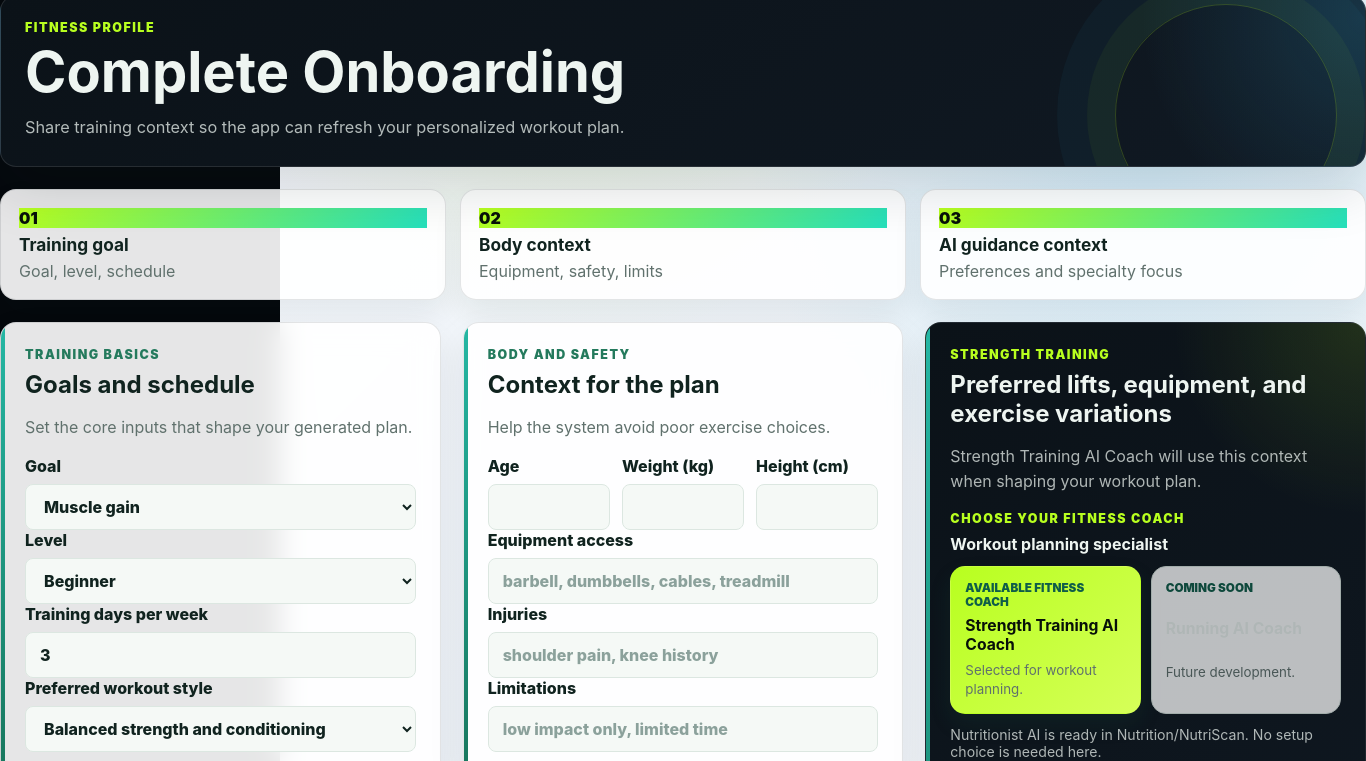
it: rejects obvious junk text in profile context fields
Check: the button "Available Fitness Coach Strength Training AI Coach Selected for workout planning" is shown, box [950, 566, 1141, 714]
Type "30" into the number field labelled "Age".
click(549, 507); type("30")  # box [488, 484, 610, 530]
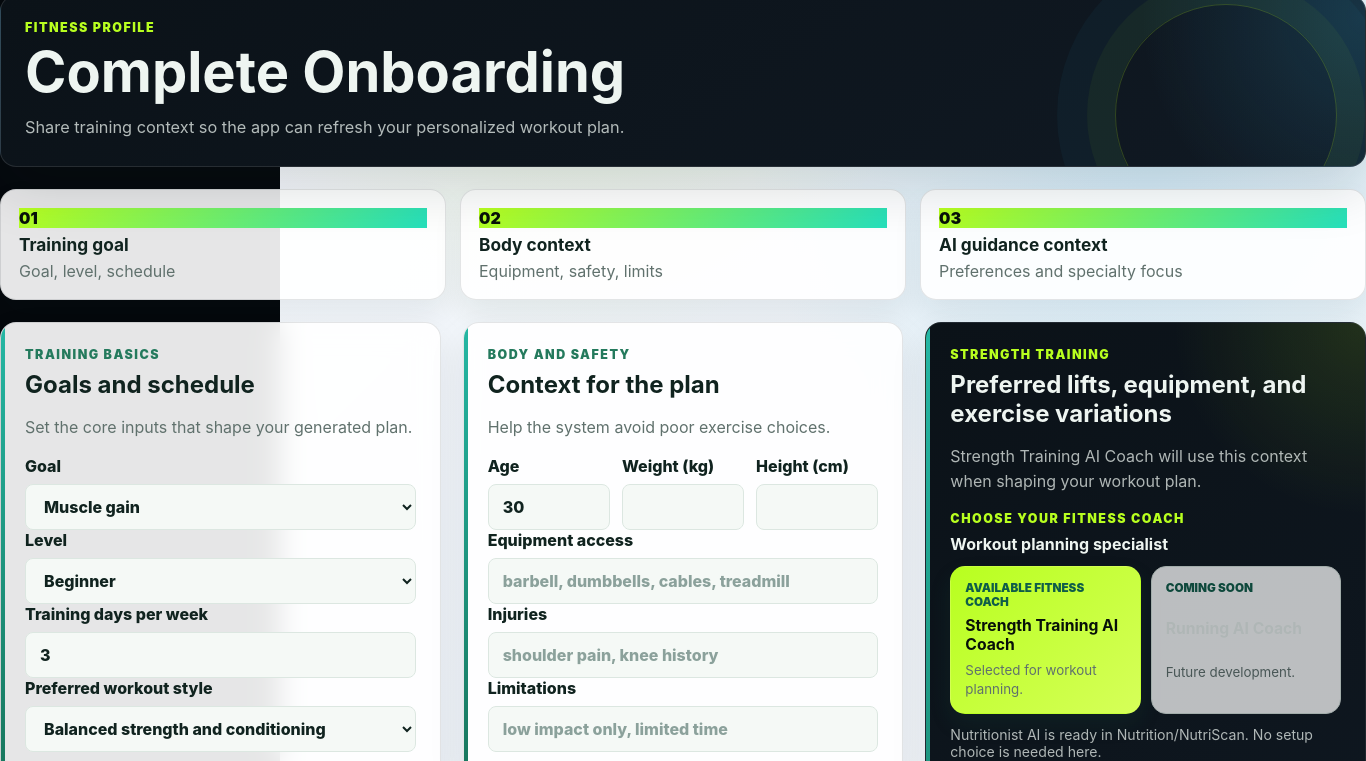
Type "82" into the number field labelled "Weight (kg)".
click(683, 507); type("82")  # box [622, 484, 744, 530]
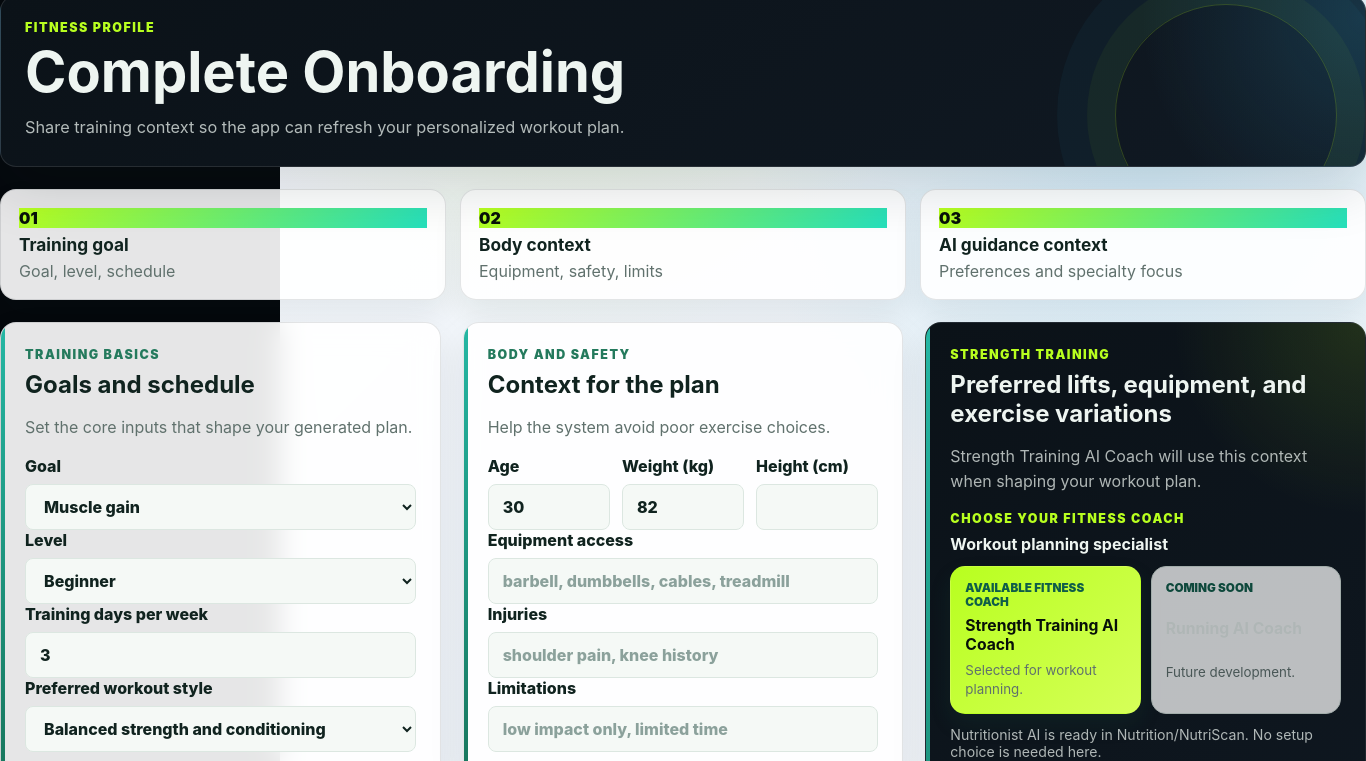
Type "180" into the number field labelled "Height (cm)".
click(817, 507); type("180")  # box [756, 484, 878, 530]
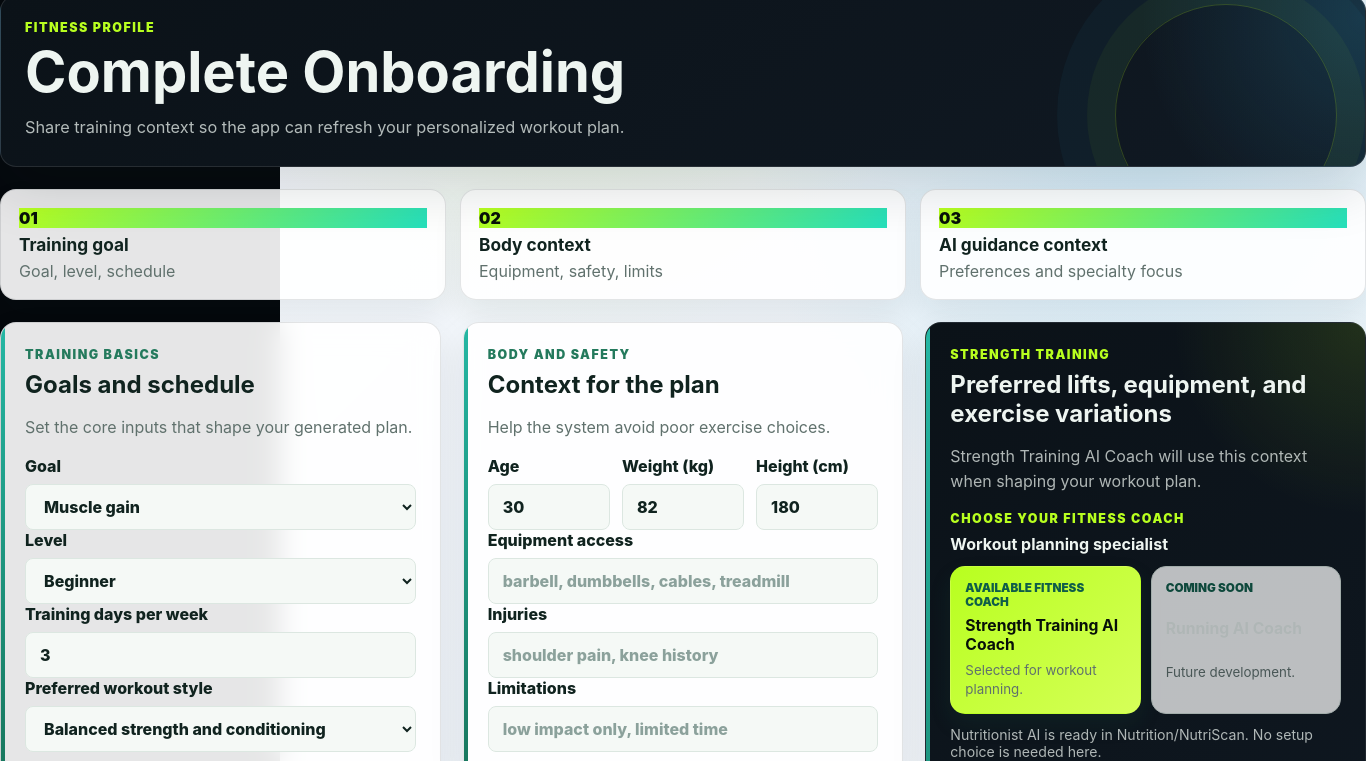
Type "please go stack overflow" into the field labelled "Equipment access".
click(683, 581); type("please go stack overflow")  # box [488, 558, 878, 604]
(page scrolled)
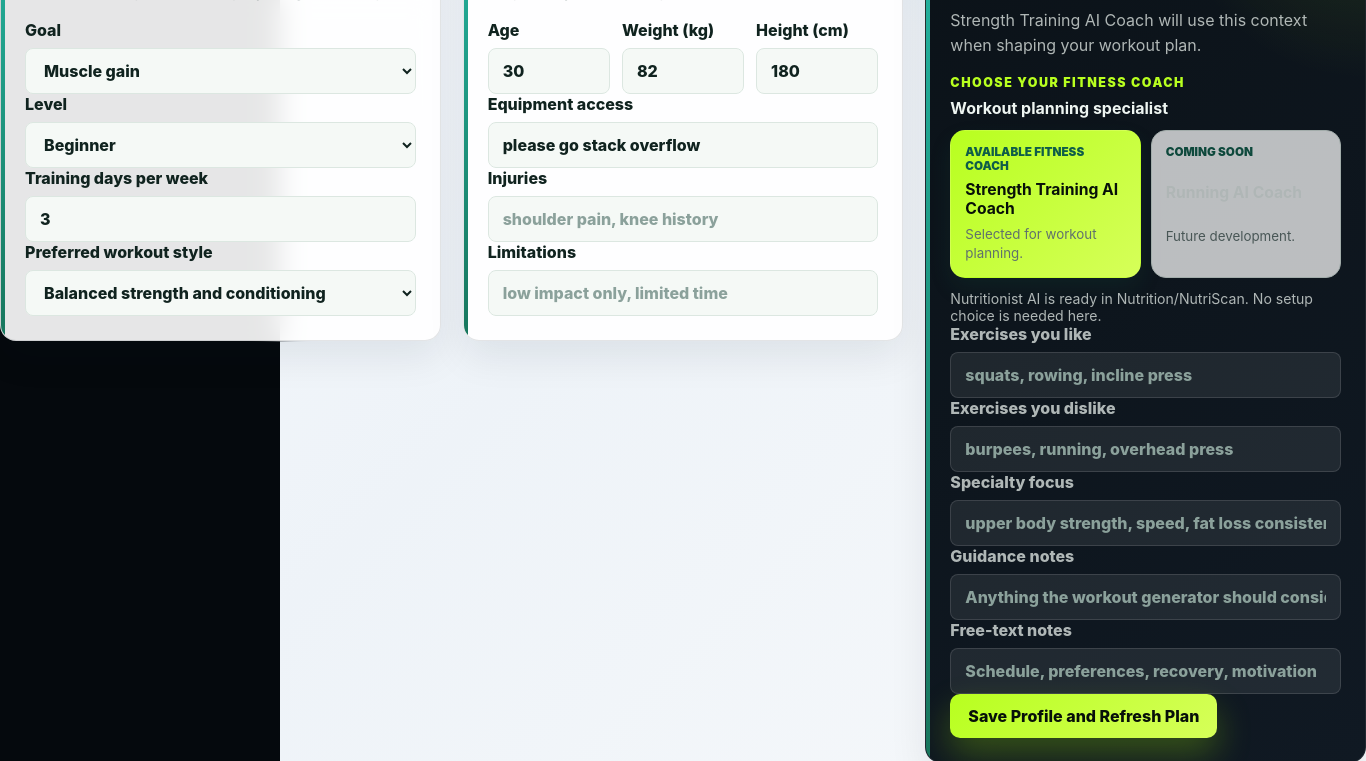
Click the button "Save Profile and Refresh Plan".
click(1084, 716)  # box [950, 694, 1217, 738]
(page scrolled)
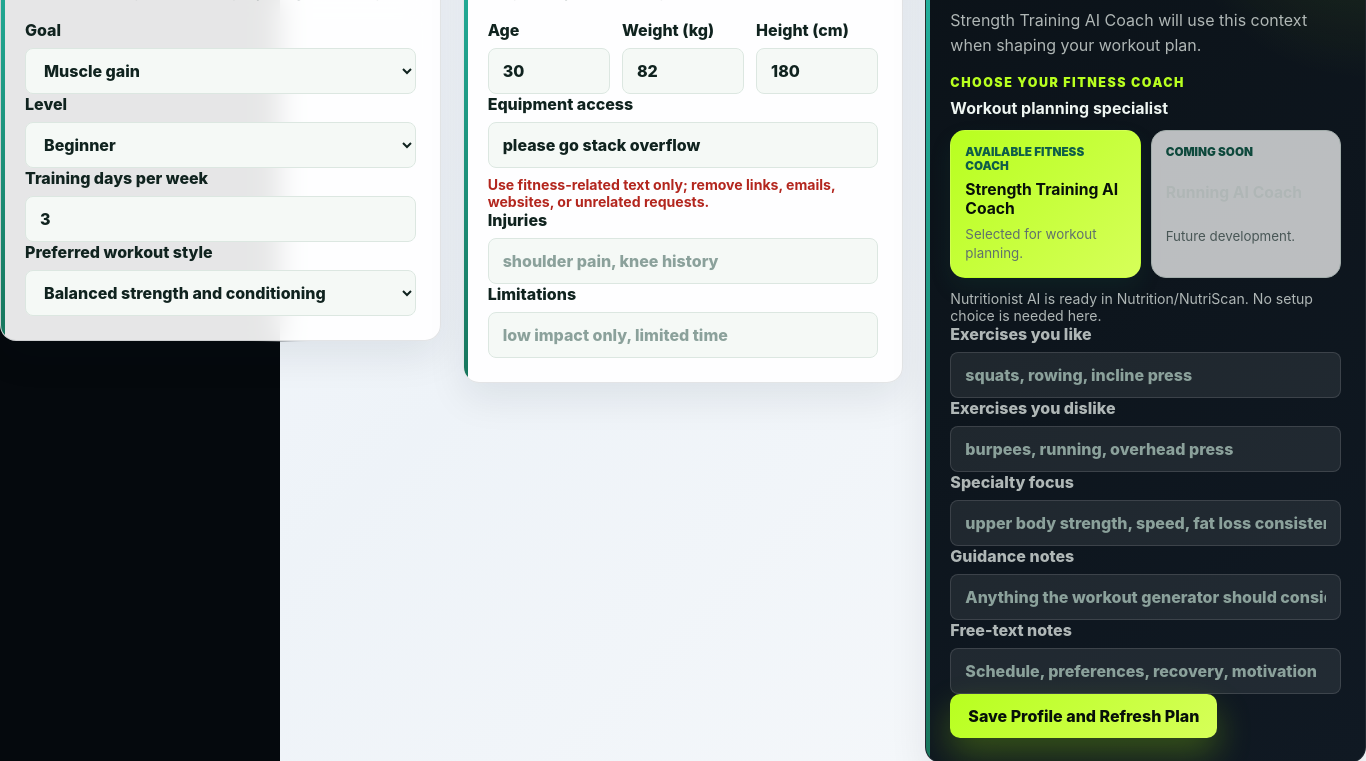
Check: the text "Use fitness-related text only; remove links, emails, websites, or unrelated requests." is shown, box [488, 176, 835, 210]
